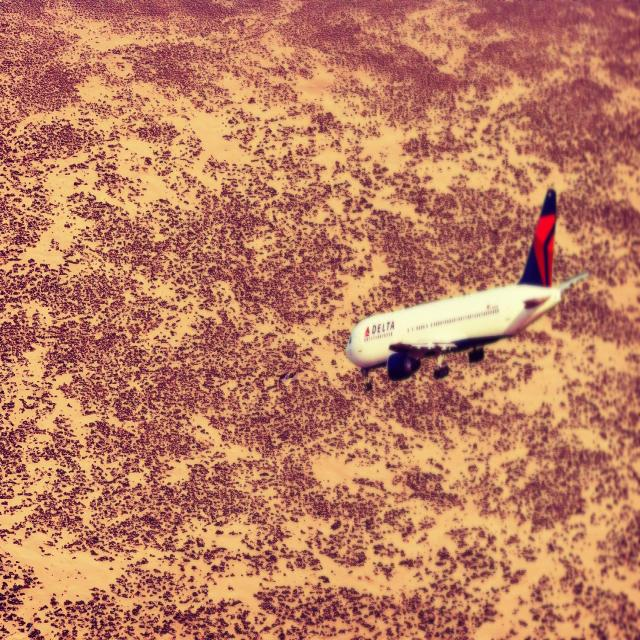airplane: (345, 187, 589, 380)
